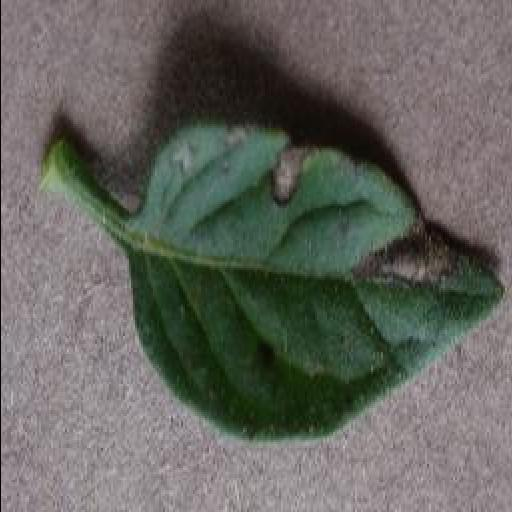disease_tomato: (114, 124, 500, 444)
